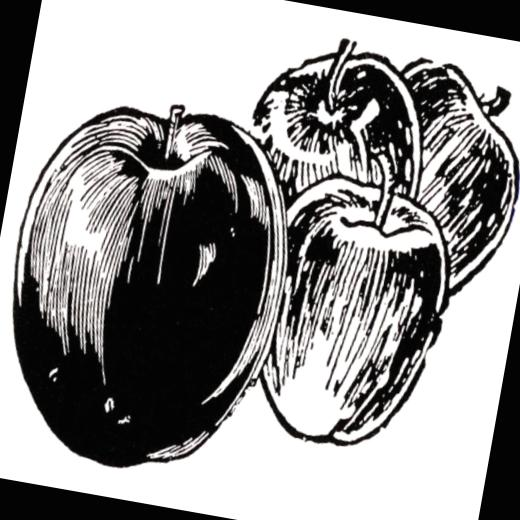Apple: (28, 103, 304, 495), (246, 136, 470, 461), (236, 22, 442, 232), (362, 49, 520, 305)
